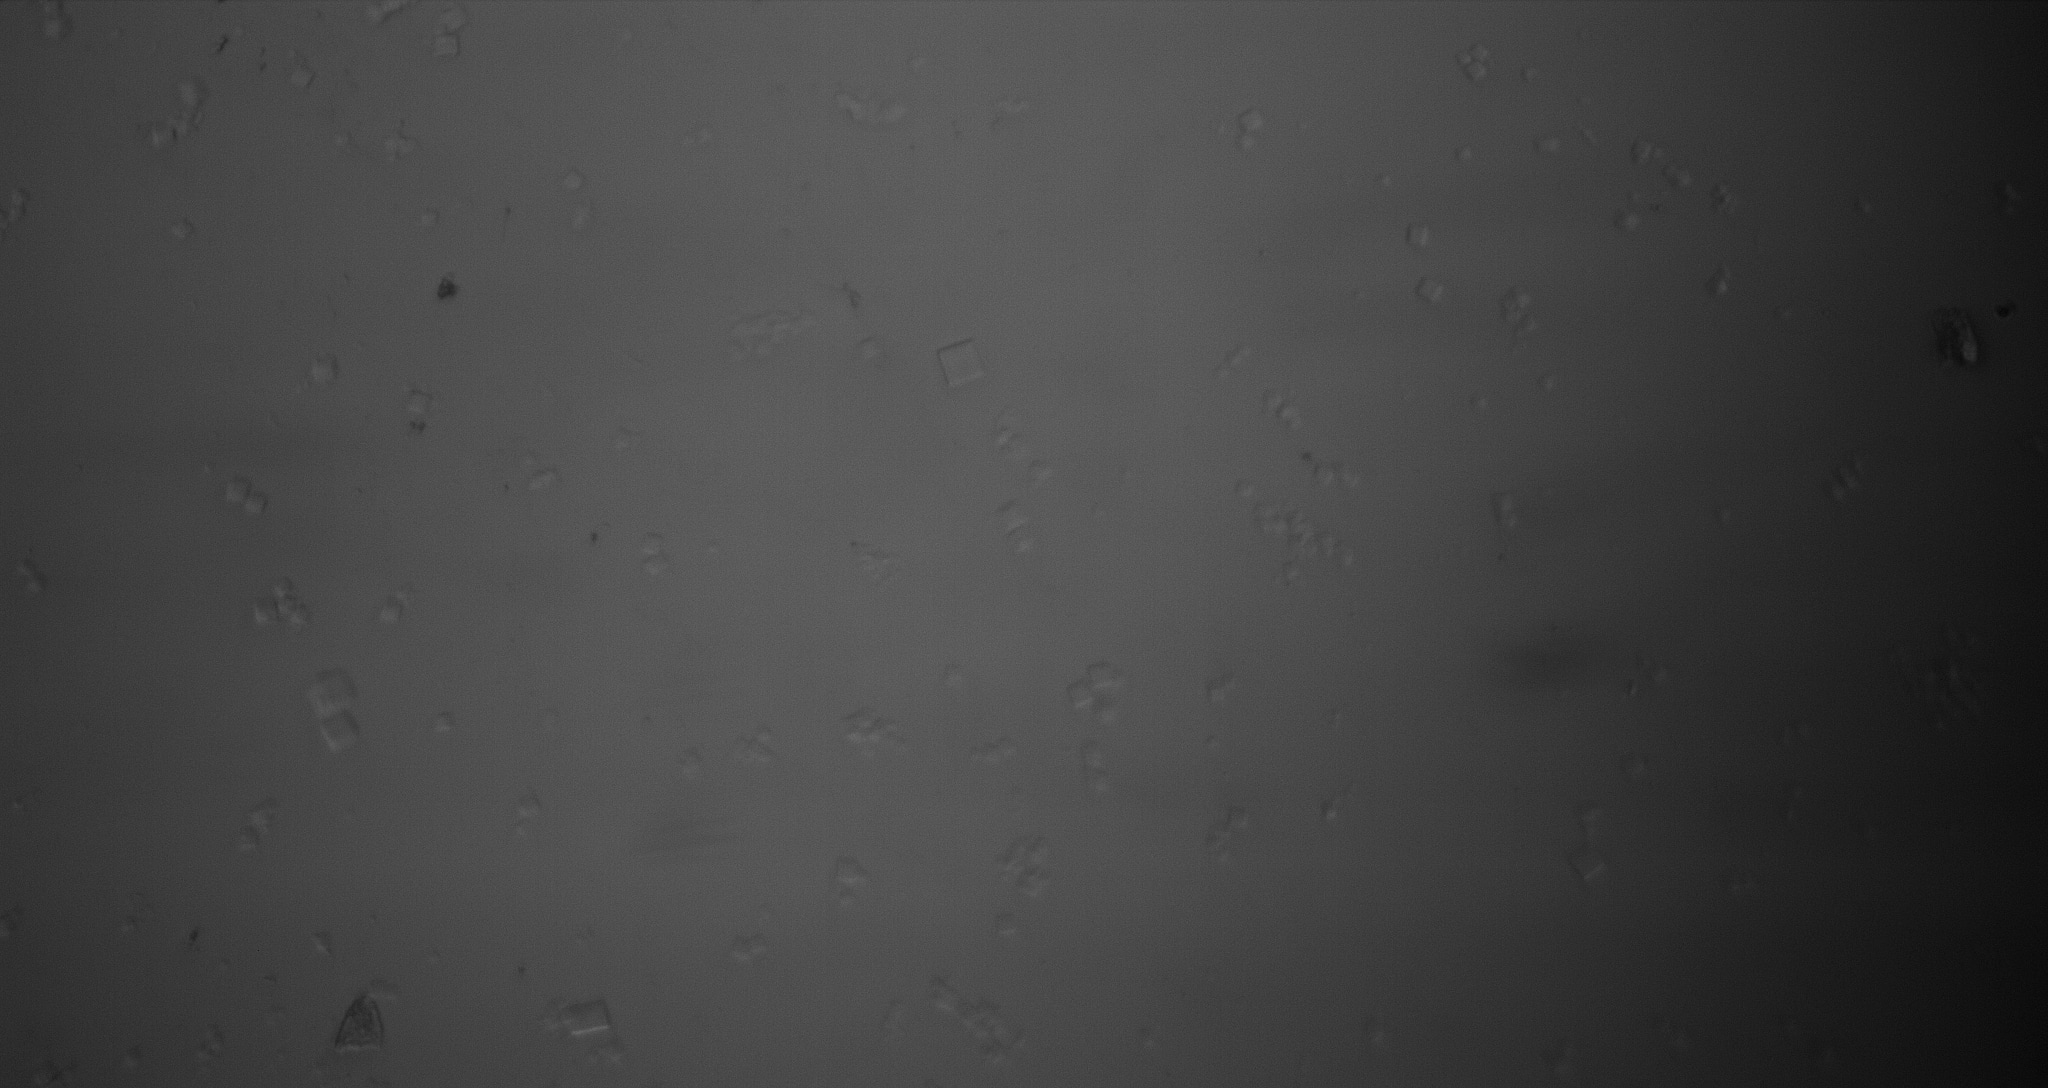square: (932, 341, 987, 392), (558, 997, 614, 1034), (322, 713, 359, 753), (1570, 845, 1606, 881), (307, 352, 343, 388), (996, 499, 1029, 534), (1406, 219, 1436, 251), (406, 388, 438, 416), (856, 335, 887, 363), (1237, 104, 1268, 133), (377, 596, 405, 625), (1415, 278, 1447, 304), (1065, 679, 1092, 706), (433, 33, 463, 57), (222, 478, 248, 503), (1234, 478, 1260, 497), (420, 207, 442, 228)
